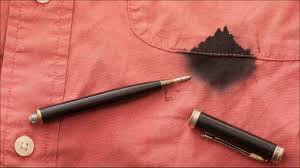pen: (24, 64, 196, 122)
